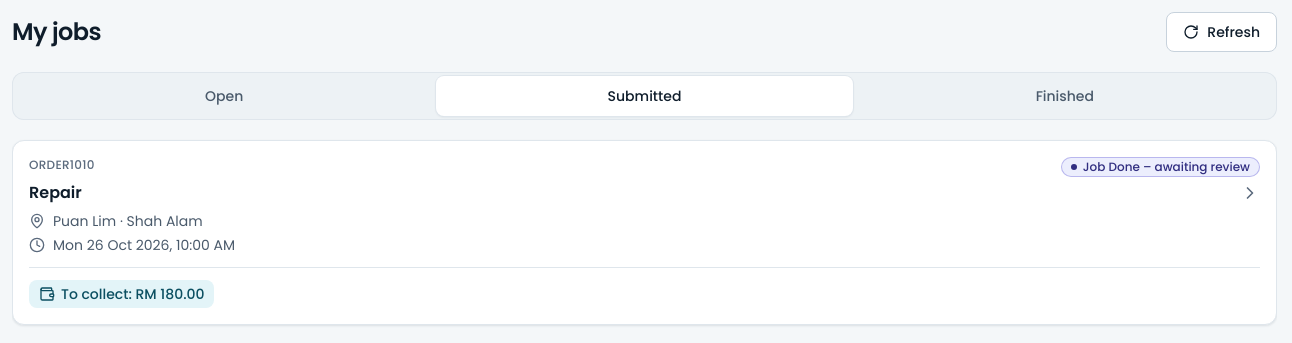
it: Submitted and Finished tabs › loads the tab from the URL and switches tabs
The width and height of the screenshot is (1292, 343).
Check: the text "ORDER1010" is shown, box [29, 157, 95, 173]
What coordinates should you click on to do the following:
click the link "Finished"
I would click on:
 (1065, 96)
Its box is [1036, 86, 1094, 106].
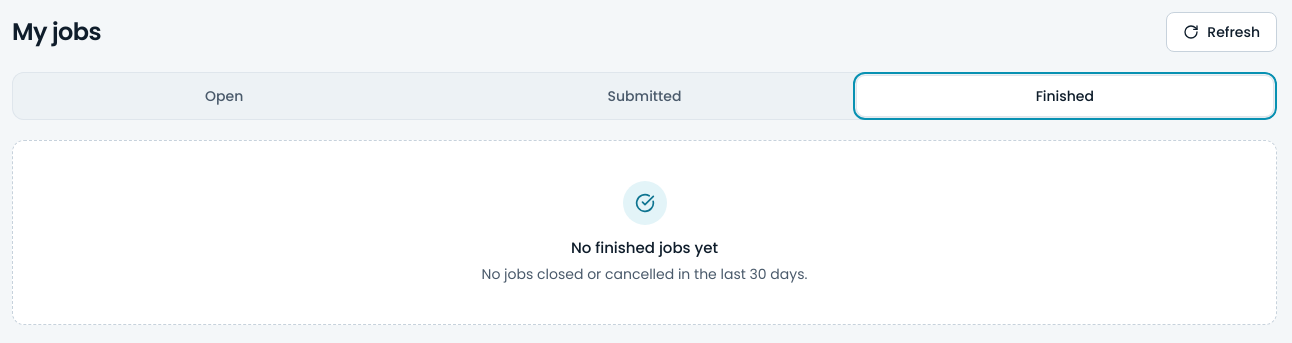
Check: the text "No jobs closed or cancelled in the last 30 days." is shown, box [482, 264, 808, 284]
